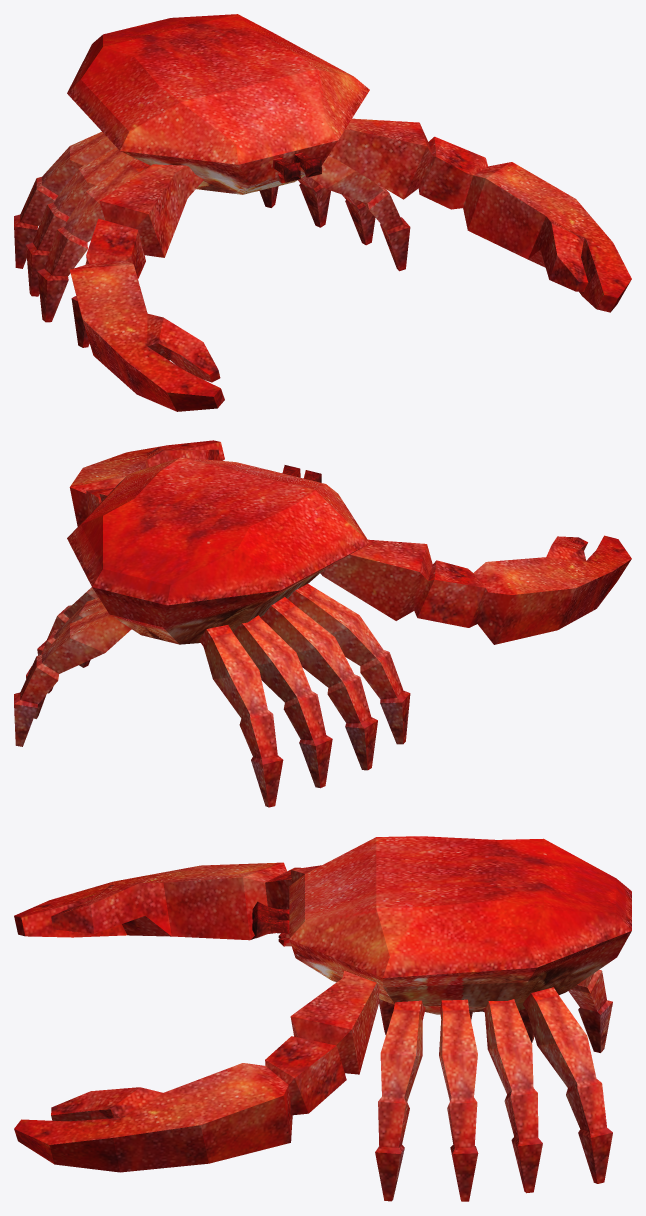
The model's file is herma.obj.
3 views of the same model, one above another, from view 1: azimuth 30°, elevation 25°; view 2: azimuth 150°, elevation 25°; view 3: azimuth 270°, elevation 25° (orthographic). The views are drawn at different scales.
Visible parts, largest first — view 1: Head, ArmLeft, ArmRight, LegRightMiddleFront, LegRightBack, LegRightMiddleBack, LegLeftFront, LegLeftMiddleBack, LegLeftMiddleFront; view 2: Head, ArmRight, LegRightMiddleFront, LegRightBack, LegRightMiddleBack, LegRightFront, LegLeftBack, ArmLeft, LegLeftMiddleBack, LegLeftMiddleFront; view 3: Head, ArmLeft, ArmRight, LegLeftBack, LegLeftMiddleBack, LegLeftFront, LegLeftMiddleFront, LegRightBack.
Part boxes in pixels (left/top/right/bottom): Head: left=67, top=14, right=369, bottom=194; ArmLeft: left=328, top=118, right=631, bottom=312; ArmRight: left=70, top=164, right=224, bottom=411; LegRightMiddleFront: left=37, top=158, right=150, bottom=322; LegRightBack: left=14, top=132, right=116, bottom=268; LegRightMiddleBack: left=26, top=147, right=135, bottom=296; LegLeftFront: left=310, top=156, right=410, bottom=271; LegLeftMiddleBack: left=298, top=176, right=330, bottom=227; LegLeftMiddleFront: left=342, top=194, right=375, bottom=245; Head: left=67, top=457, right=369, bottom=644; ArmRight: left=320, top=535, right=631, bottom=644; LegRightMiddleFront: left=260, top=597, right=377, bottom=770; LegRightBack: left=199, top=625, right=283, bottom=807; LegRightMiddleBack: left=233, top=615, right=332, bottom=788; LegRightFront: left=287, top=584, right=410, bottom=744; LegLeftBack: left=14, top=608, right=131, bottom=746; ArmLeft: left=69, top=440, right=224, bottom=526; LegLeftMiddleBack: left=26, top=597, right=105, bottom=718; LegLeftMiddleFront: left=37, top=587, right=98, bottom=693; Head: left=252, top=836, right=631, bottom=1014; ArmLeft: left=14, top=971, right=379, bottom=1172; ArmRight: left=14, top=862, right=321, bottom=940; LegLeftBack: left=523, top=987, right=612, bottom=1183; LegLeftMiddleBack: left=483, top=999, right=542, bottom=1193; LegLeftFront: left=375, top=1000, right=425, bottom=1201; LegLeftMiddleFront: left=439, top=999, right=478, bottom=1201; LegRightBack: left=568, top=969, right=612, bottom=1052.
Bounding box in the file's own units: 2.24 × 0.9914 × 2.25.
